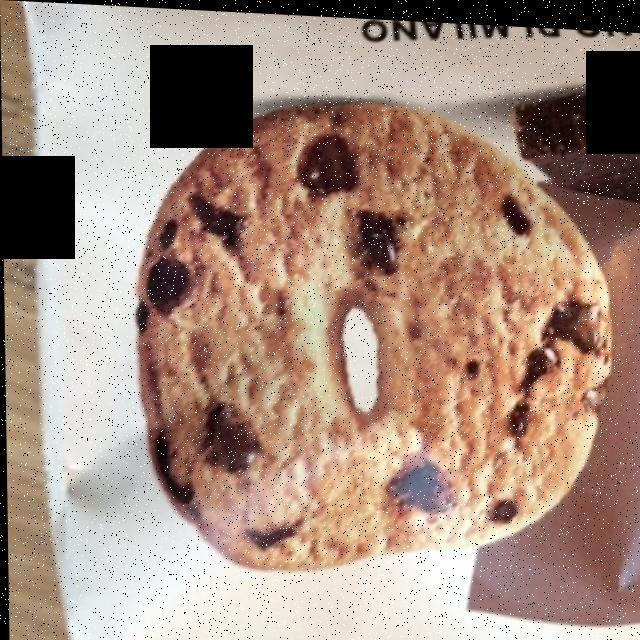cookies: (146, 101, 605, 564)
